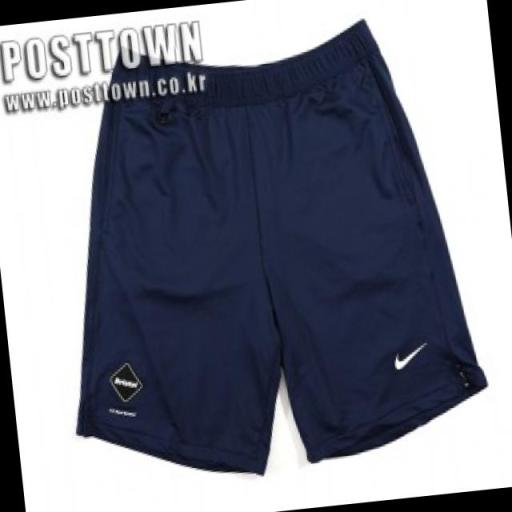Nike: (388, 336, 434, 374)
